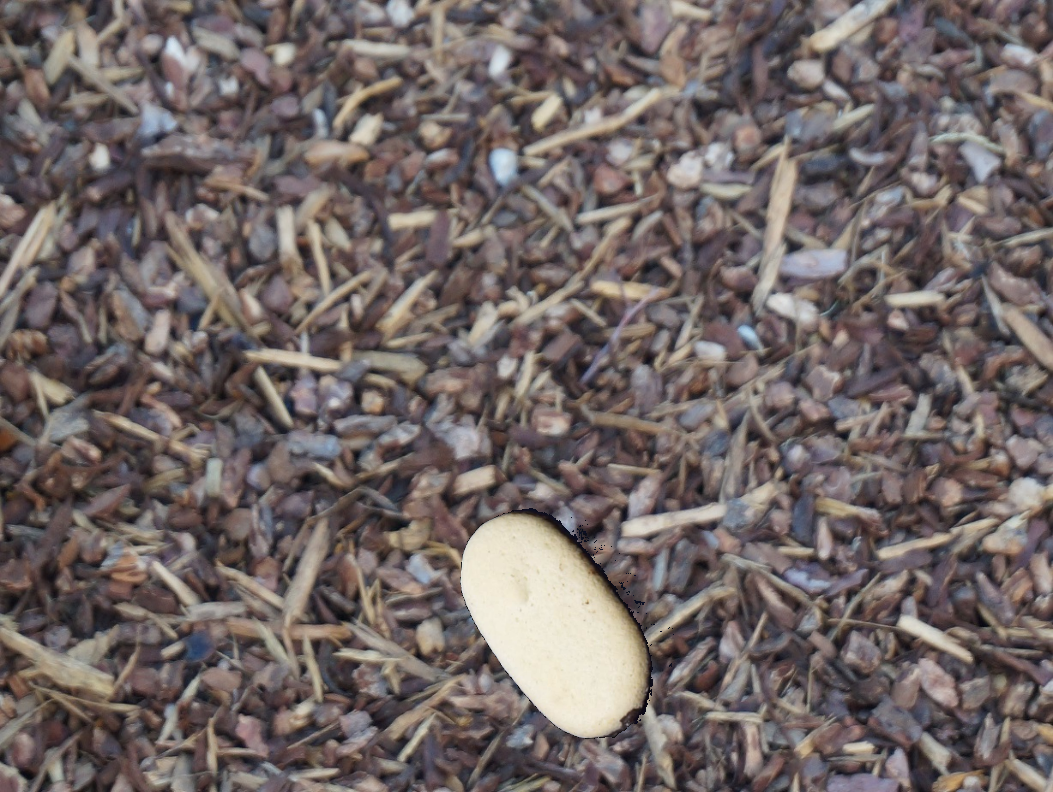test: (444, 498, 690, 748)
